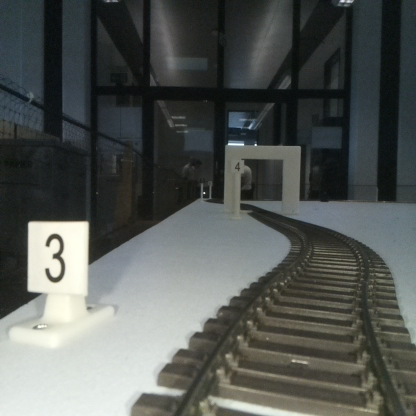white-info-4: (231, 158, 244, 218)
white-stop-3: (28, 221, 88, 341)
